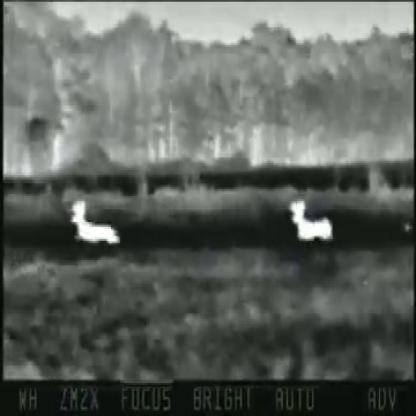rehkitze: (70, 199, 128, 252), (289, 190, 337, 245)
